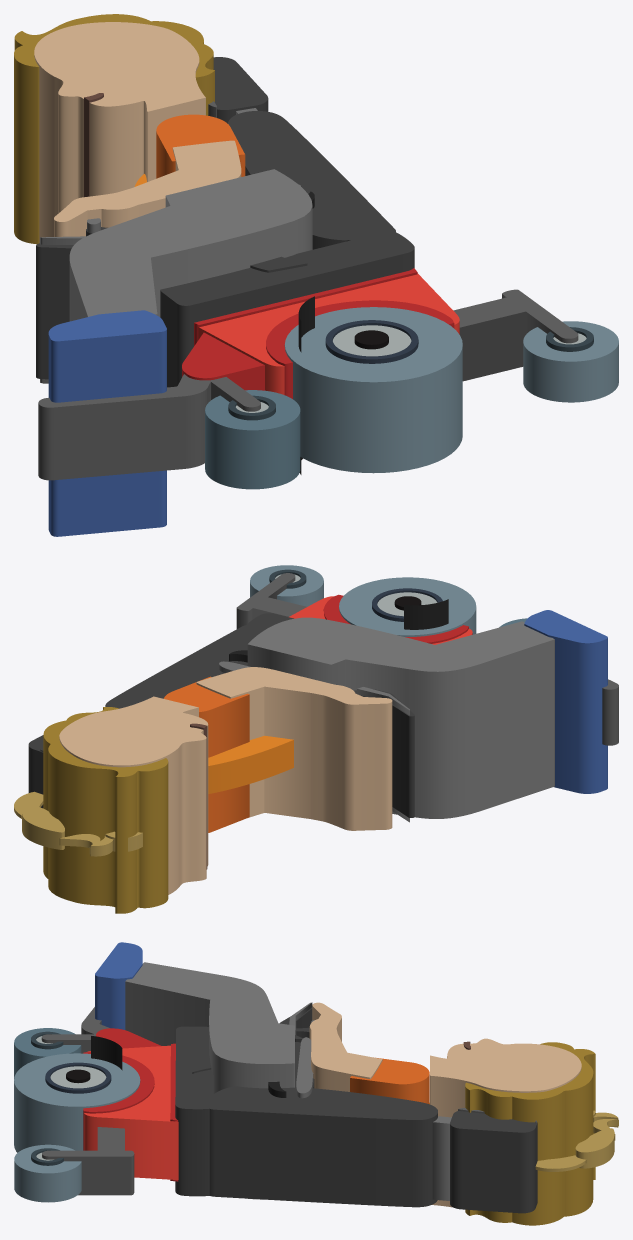
File: emoji_u1f9d1_1f3fc_200d_1f9bc.glb
3 renders of one model, top to bottom at view 1: azimuth 30°, elevation 25°; view 2: azimuth 150°, elevation 25°; view 3: azimuth 270°, elevation 25°, orthographic. The views are drawn at different scales.
Parts seen in each view (by area): view 1: emoji_u1f9d1_1f3fc_200d_1f9bc; view 2: emoji_u1f9d1_1f3fc_200d_1f9bc; view 3: emoji_u1f9d1_1f3fc_200d_1f9bc.
Part boxes in pixels (box(x1,y1,x2,y2)): emoji_u1f9d1_1f3fc_200d_1f9bc: box(14, 14, 618, 536); emoji_u1f9d1_1f3fc_200d_1f9bc: box(14, 565, 618, 913); emoji_u1f9d1_1f3fc_200d_1f9bc: box(14, 942, 618, 1225).
Bounding box in the file's own units: 0.024 × 0.0086 × 0.034.
